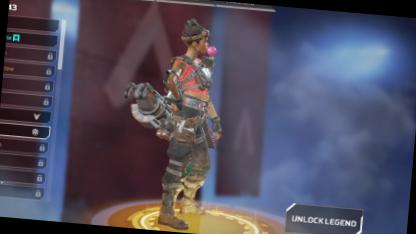Target: (164, 18, 224, 180)
